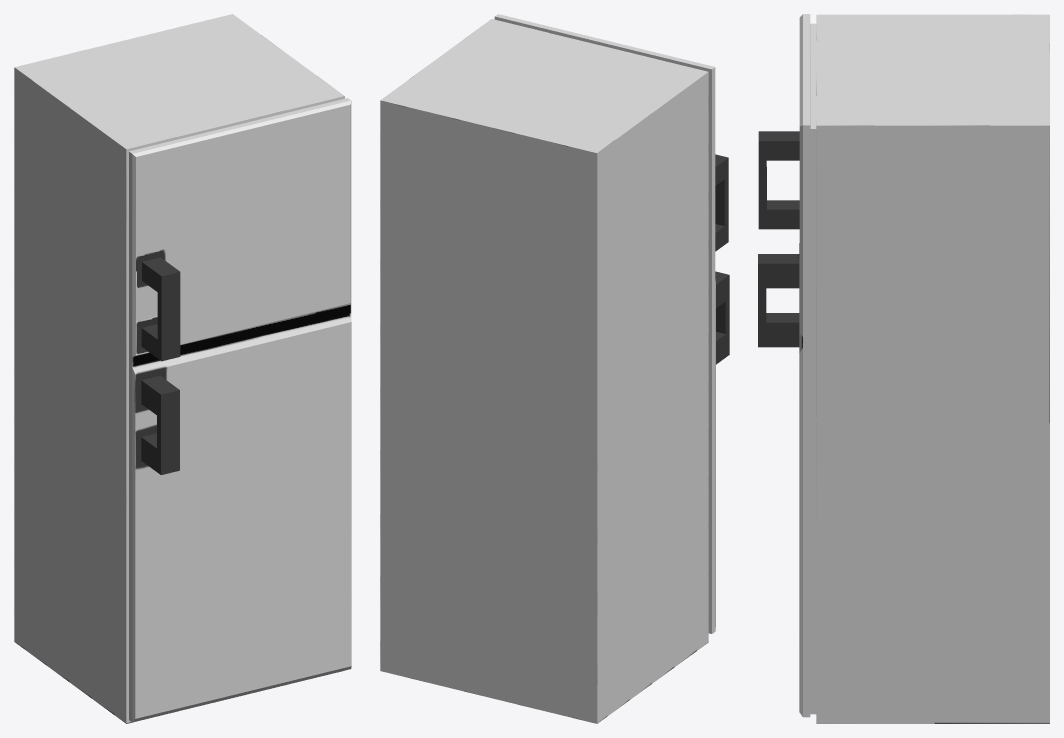
The model's file is Refrigeradora.fbx.
3 views of the same model, side by side, from view 1: azimuth 30°, elevation 25°; view 2: azimuth 150°, elevation 25°; view 3: azimuth 270°, elevation 25° (orthographic). The views are drawn at different scales.
Parts seen in each view (by area): view 1: Refrigeradora(mapeada)(texturizada); view 2: Refrigeradora(mapeada)(texturizada); view 3: Refrigeradora(mapeada)(texturizada).
Part boxes in pixels (bbox=[...]): Refrigeradora(mapeada)(texturizada): bbox=[14, 14, 351, 723]; Refrigeradora(mapeada)(texturizada): bbox=[380, 14, 729, 723]; Refrigeradora(mapeada)(texturizada): bbox=[758, 14, 1049, 723].
Size of the model in its own units: 282 by 708 by 313.
